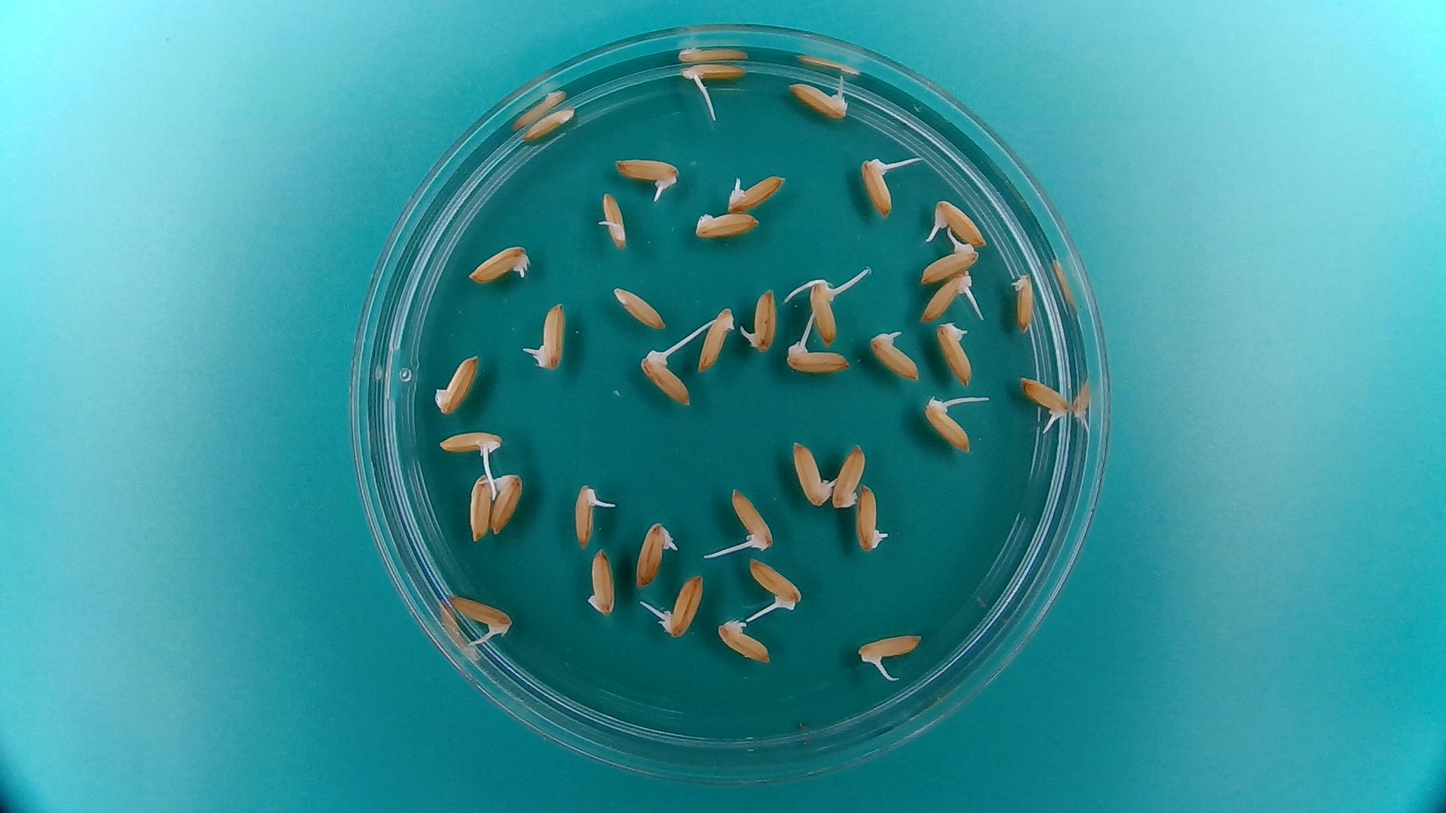no: (436, 349, 483, 413), (695, 305, 737, 376), (715, 618, 773, 666), (610, 284, 669, 330), (463, 464, 496, 546), (584, 545, 618, 619), (517, 102, 578, 143), (832, 438, 866, 510), (691, 208, 761, 242), (784, 343, 851, 373), (1008, 269, 1036, 336)
yes: (447, 591, 514, 642), (728, 483, 776, 554), (918, 268, 979, 323), (638, 352, 694, 410), (660, 570, 706, 638), (935, 318, 977, 388), (745, 555, 800, 607), (724, 169, 787, 214), (869, 332, 923, 384), (924, 400, 976, 454), (917, 240, 977, 286), (632, 518, 669, 592), (793, 434, 832, 504), (465, 245, 531, 286), (487, 467, 524, 538), (787, 80, 852, 120), (856, 629, 923, 666), (932, 202, 987, 247), (856, 480, 889, 553), (805, 279, 842, 344), (746, 282, 779, 354), (858, 155, 894, 219), (532, 305, 566, 370), (597, 188, 631, 250), (611, 158, 683, 187), (571, 483, 601, 550), (1020, 379, 1069, 419), (683, 58, 746, 88), (435, 431, 504, 456)
